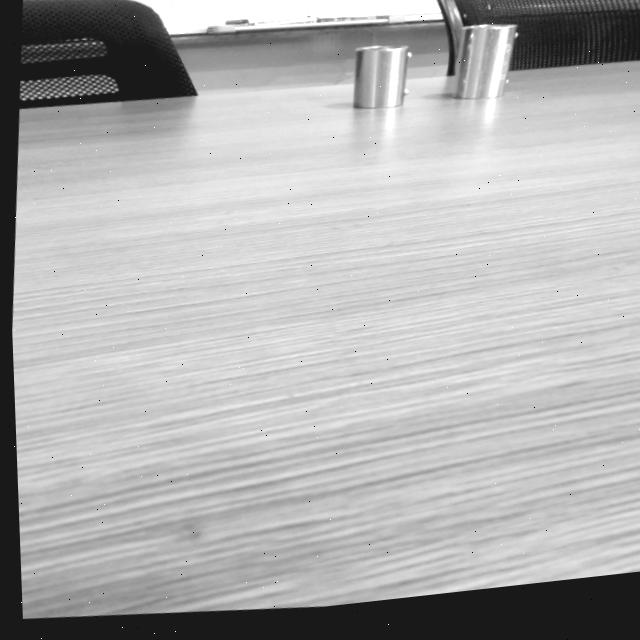Co_Lon: (450, 15, 517, 105)
Co_Nho: (352, 43, 409, 109)
